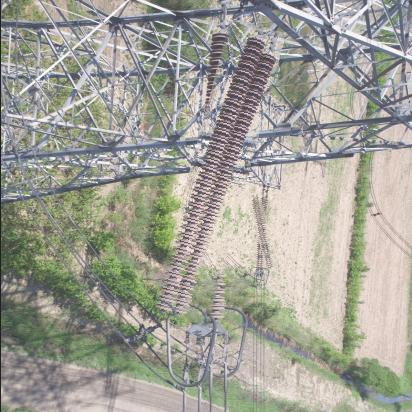insulator: (171, 20, 267, 326), (251, 194, 275, 269)
